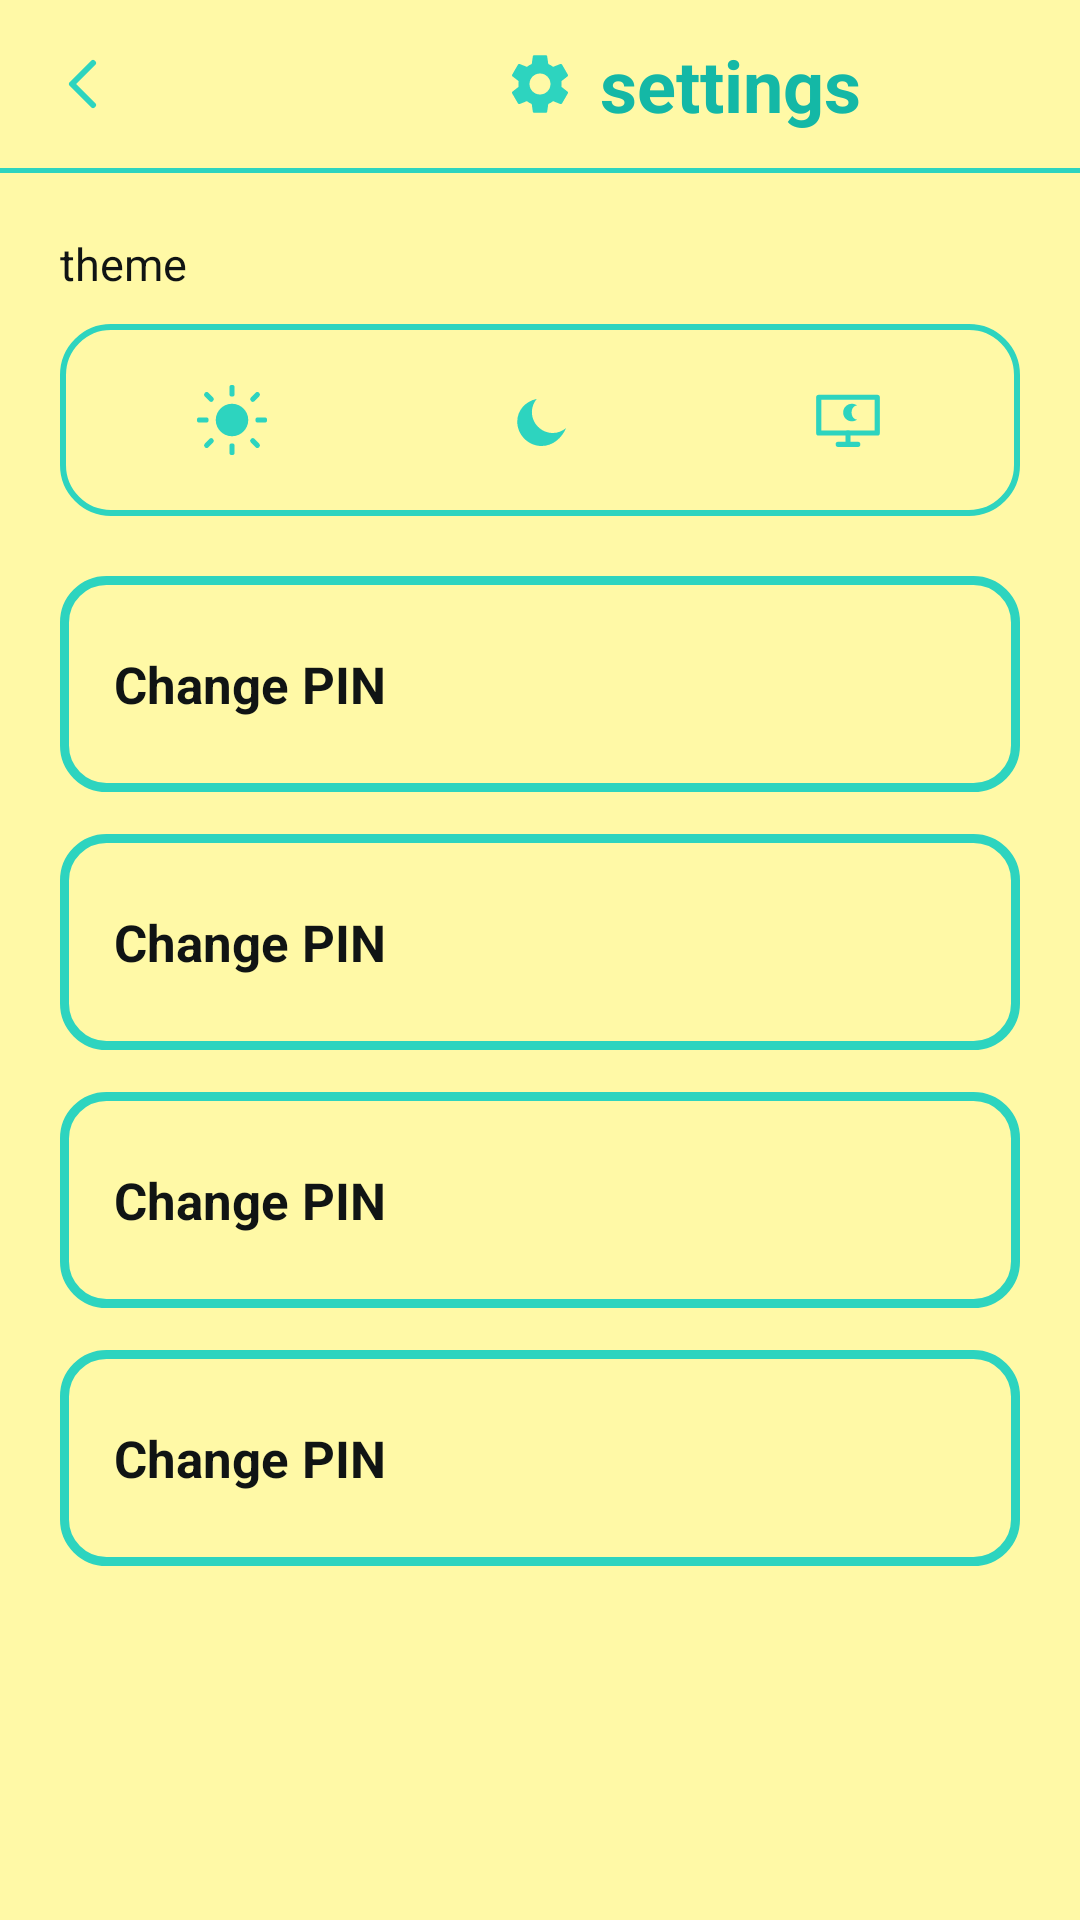

Point at icon controls on the screen. Image size 1080 x 1920, points as (x=x, y=y).
Back: (x=82, y=84)
theme system: (x=848, y=420)
